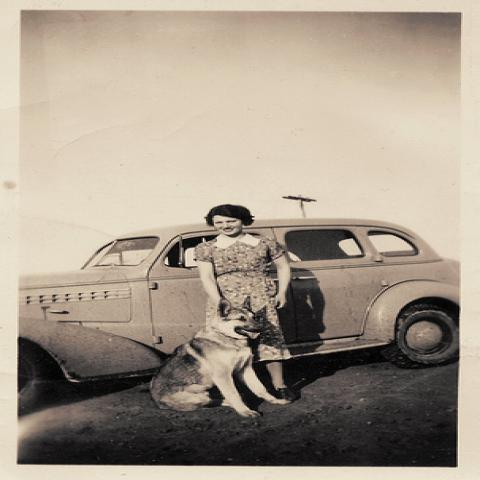car: (14, 221, 463, 366)
